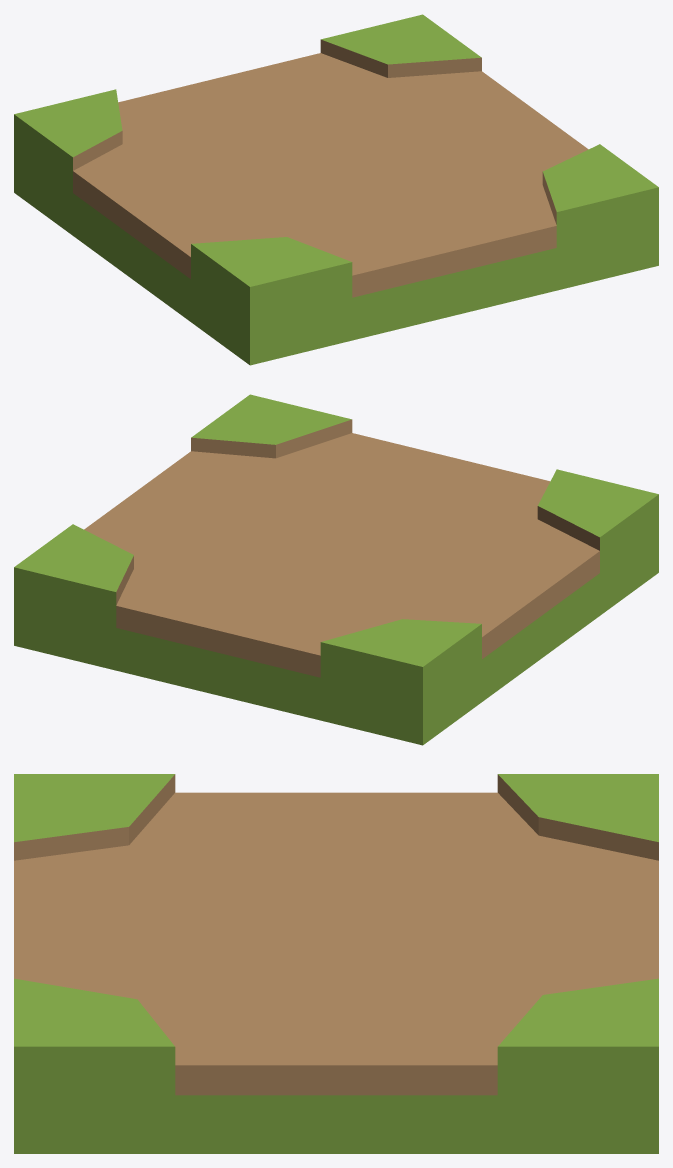
The model's file is tile211.fbx.
3 renders of one model, top to bottom at view 1: azimuth 30°, elevation 25°; view 2: azimuth 150°, elevation 25°; view 3: azimuth 270°, elevation 25°, orthographic. The views are drawn at different scales.
Parts seen in each view (by area): view 1: tile211; view 2: tile211; view 3: tile211.
Boxes of the visible parts, bbox=[...] form: tile211: bbox=[14, 14, 658, 365]; tile211: bbox=[14, 394, 658, 745]; tile211: bbox=[14, 774, 658, 1153].
Size of the model in its own units: 10 by 1.83 by 10.
